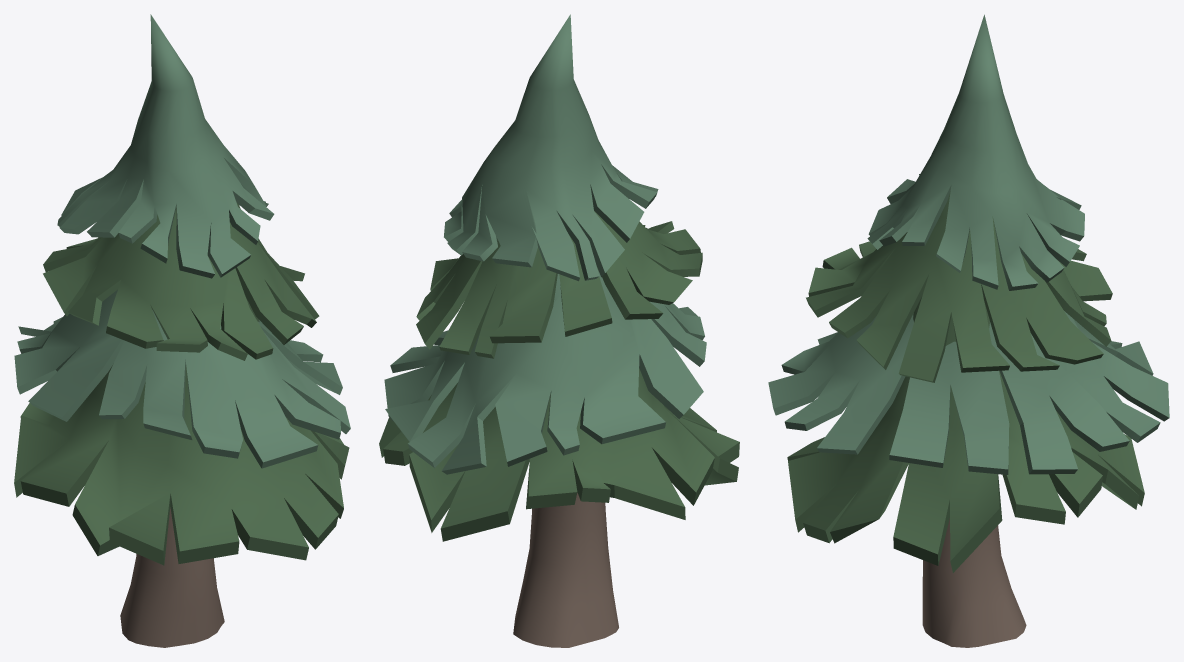
Rendered from Arbol2.fbx.
3 views of the same model, side by side, from view 1: azimuth 30°, elevation 25°; view 2: azimuth 150°, elevation 25°; view 3: azimuth 270°, elevation 25° (orthographic). The views are drawn at different scales.
Parts seen in each view (by area): view 1: Hojas1, Hojas2, Hojas4, Hojas3, Tronco; view 2: Hojas2, Hojas4, Hojas1, Hojas3, Tronco; view 3: Hojas2, Hojas3, Hojas1, Hojas4, Tronco.
Part boxes in pixels (x1,y1,x2,y2): Hojas1: (14,298,349,565); Hojas2: (14,289,350,468); Hojas4: (57,14,274,278); Hojas3: (43,203,319,360); Tronco: (120,507,224,647); Hojas2: (384,270,706,474); Hojas4: (444,14,658,281); Hojas1: (379,368,739,541); Hojas3: (416,211,702,358); Tronco: (513,492,618,647); Hojas2: (768,311,1169,474); Hojas3: (806,191,1112,382); Hojas1: (787,296,1144,572); Hojas4: (867,14,1084,290); Tronco: (922,518,1026,647).
Bounding box in the file's own units: 4.09 × 7.81 × 4.7.
